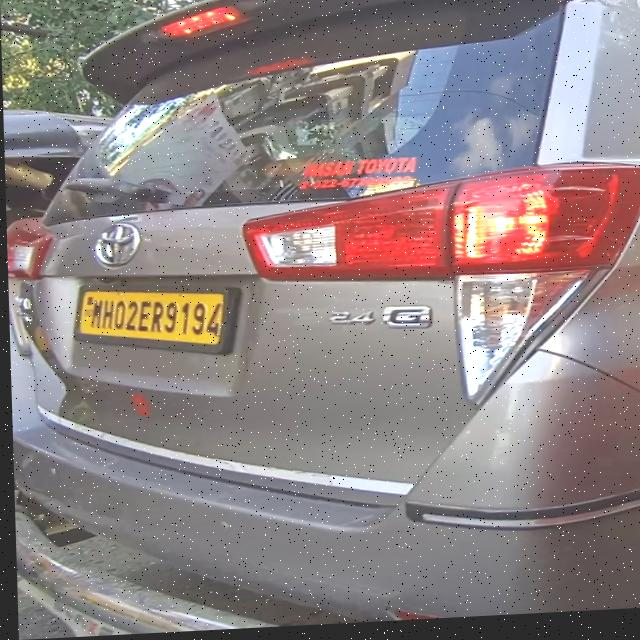plate: (69, 279, 234, 362)
